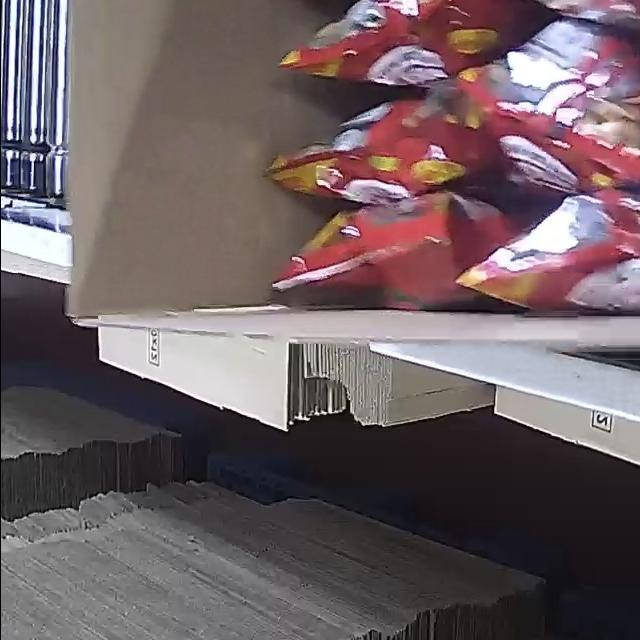masala: (249, 0, 640, 320)
